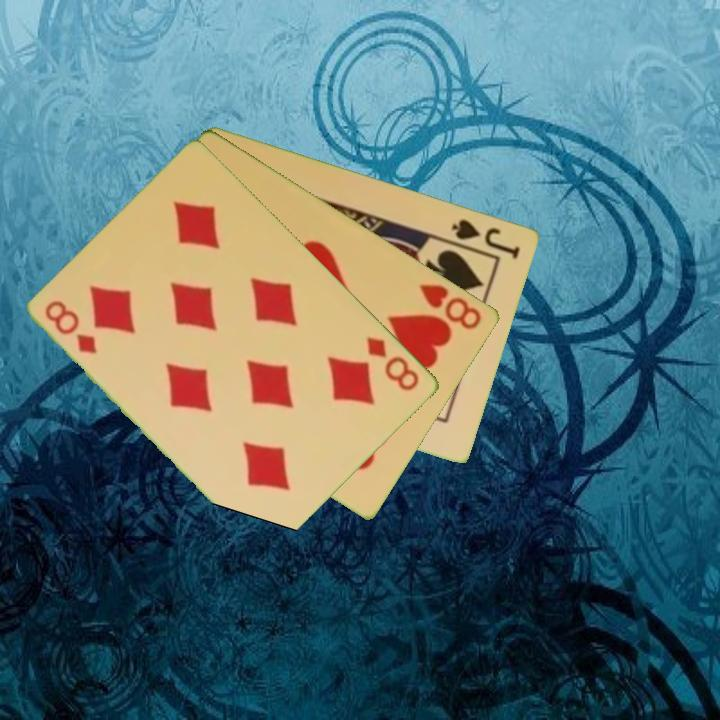8d: (363, 332, 423, 394), (41, 297, 101, 357)
8h: (416, 280, 485, 333)
Js: (448, 215, 524, 262)
